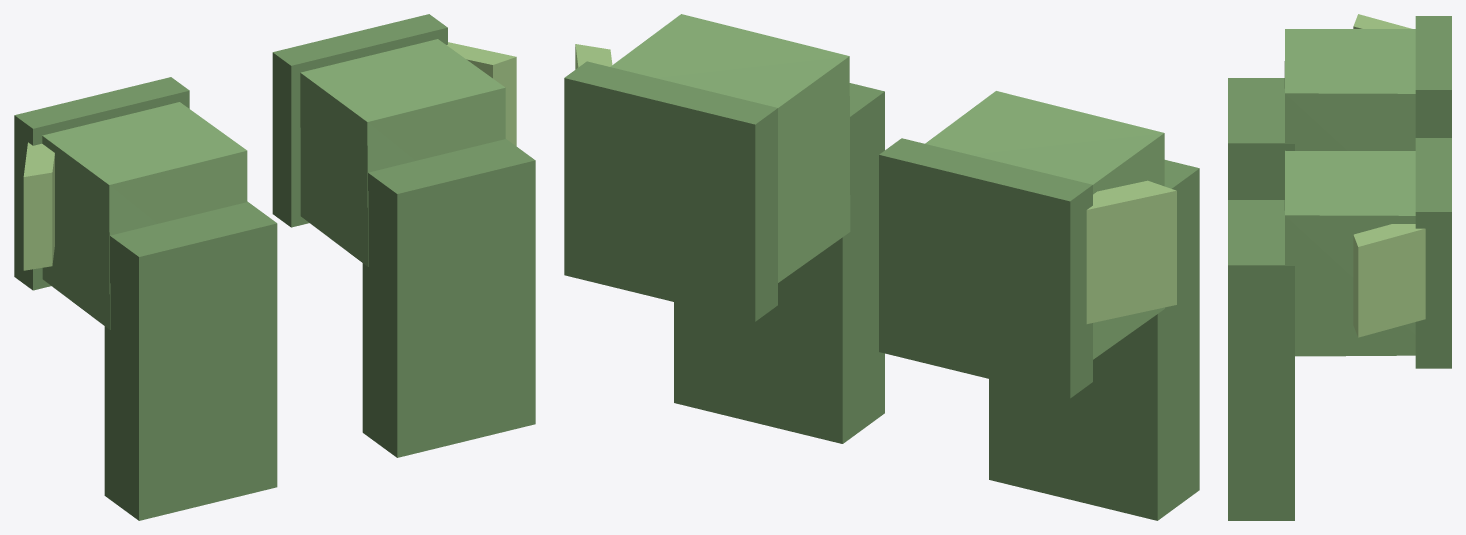
Rendered from BootsEvader.fbx.
3 views of the same model, side by side, from view 1: azimuth 30°, elevation 25°; view 2: azimuth 150°, elevation 25°; view 3: azimuth 270°, elevation 25° (orthographic). The views are drawn at different scales.
Parts seen in each view (by area): view 1: fam_leaf_dark, fam_leaf, fam_leaf_light; view 2: fam_leaf_dark, fam_leaf, fam_leaf_light; view 3: fam_leaf_dark, fam_leaf, fam_leaf_light.
Boxes of the visible parts, x1,y1,x2,y2 form: fam_leaf_dark: [14, 14, 535, 520]; fam_leaf: [42, 39, 505, 329]; fam_leaf_light: [23, 42, 516, 270]; fam_leaf_dark: [564, 61, 1199, 520]; fam_leaf: [610, 14, 1164, 359]; fam_leaf_light: [575, 44, 1176, 323]; fam_leaf_dark: [1228, 16, 1451, 520]; fam_leaf: [1284, 29, 1415, 356]; fam_leaf_light: [1353, 14, 1425, 337].
Size of the model in its own units: 12.48 by 7.82 by 5.06.
